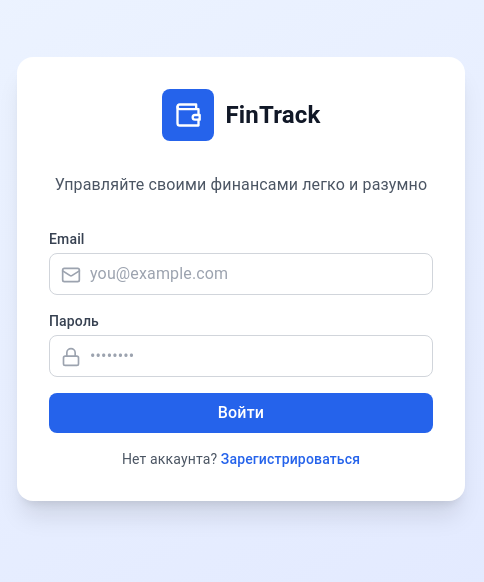
Test: Регистрация пользователя › SC-REG-05: Можно вернуться к форме входа
This screenshot has width=484, height=582.
Step 1. Click the button "Зарегистрироваться" → {"x": 291, "y": 459}, box [221,449,360,469]
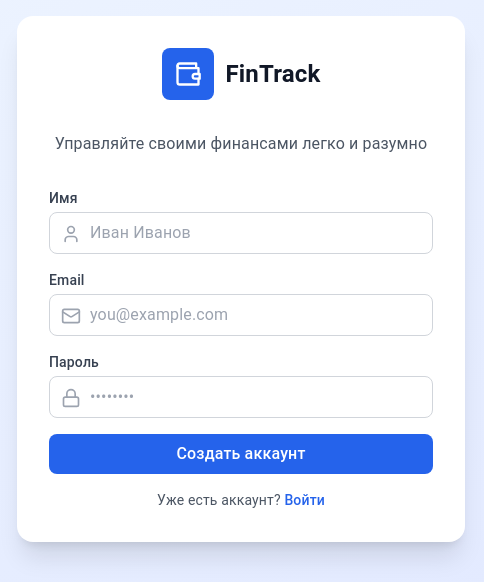
Step 2. Click the button "Войти" → {"x": 305, "y": 500}, box [284,490,325,510]
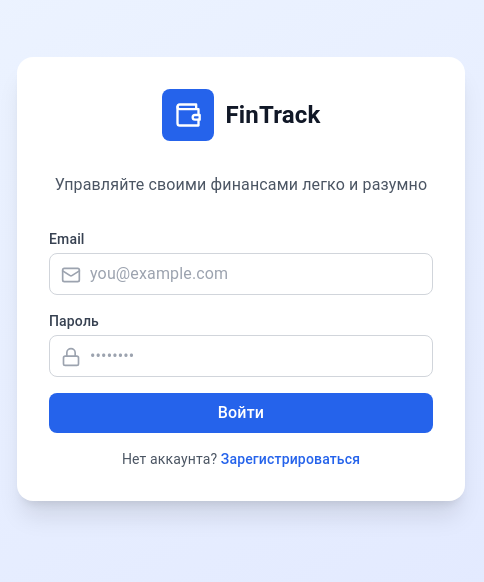
Expected: the submit button reads "Войти", [49,393,433,433]
